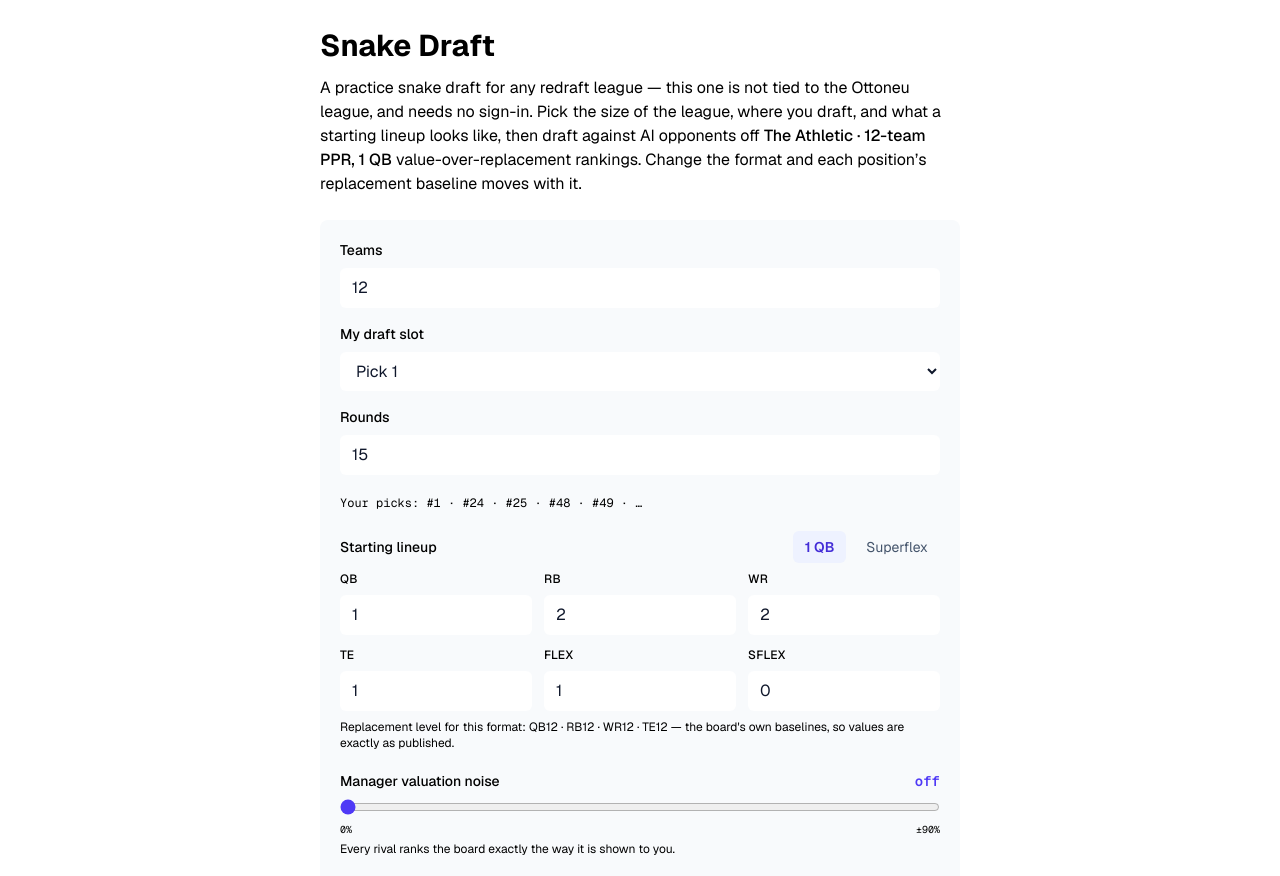
SnakeDraftClient › auto-drafts the remainder and shows the standings
Replace the text in the number field labelled "Rounds" with "3": [640, 455] box [340,435,940,475]
(page scrolled)
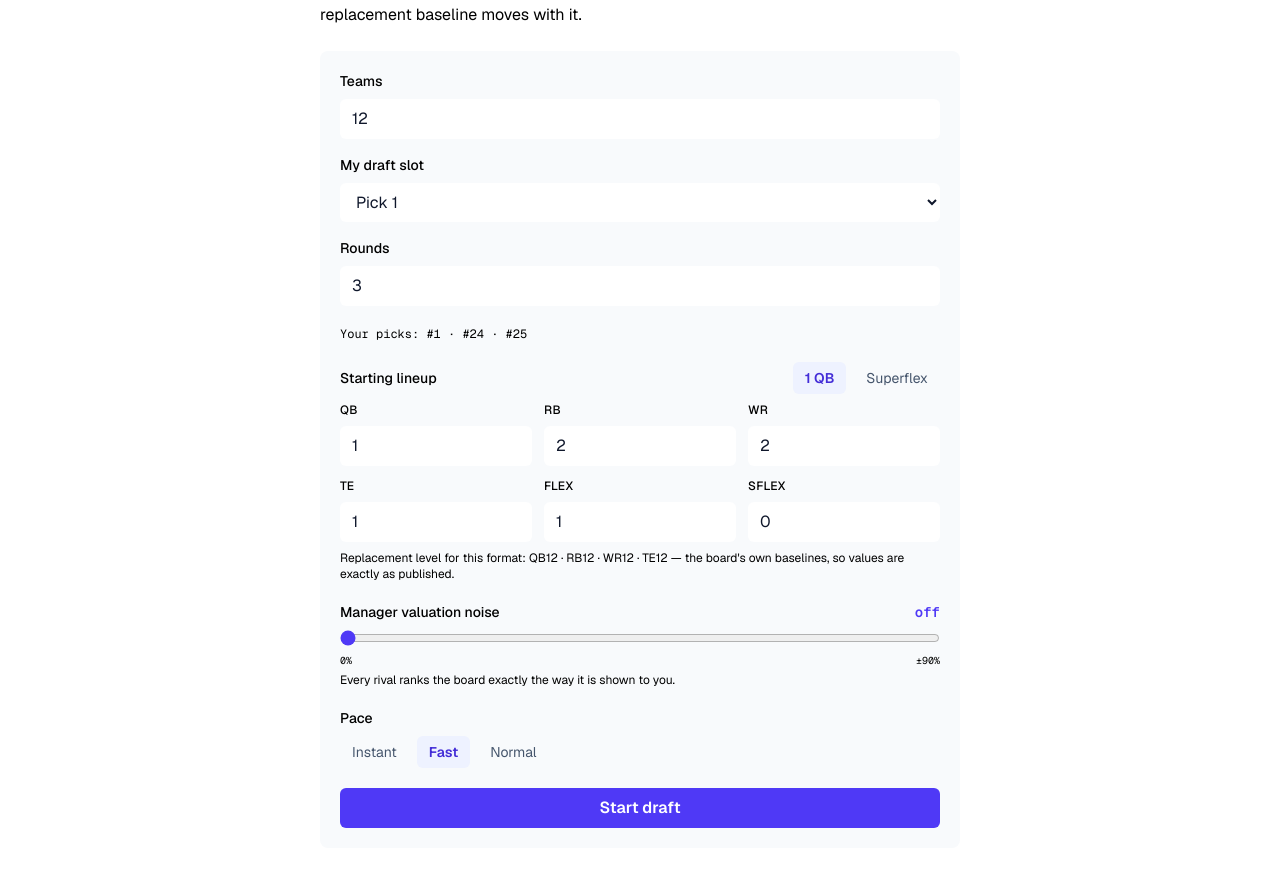
Click the button "Start draft": [640, 808] box [340,788,940,828]
(page scrolled)
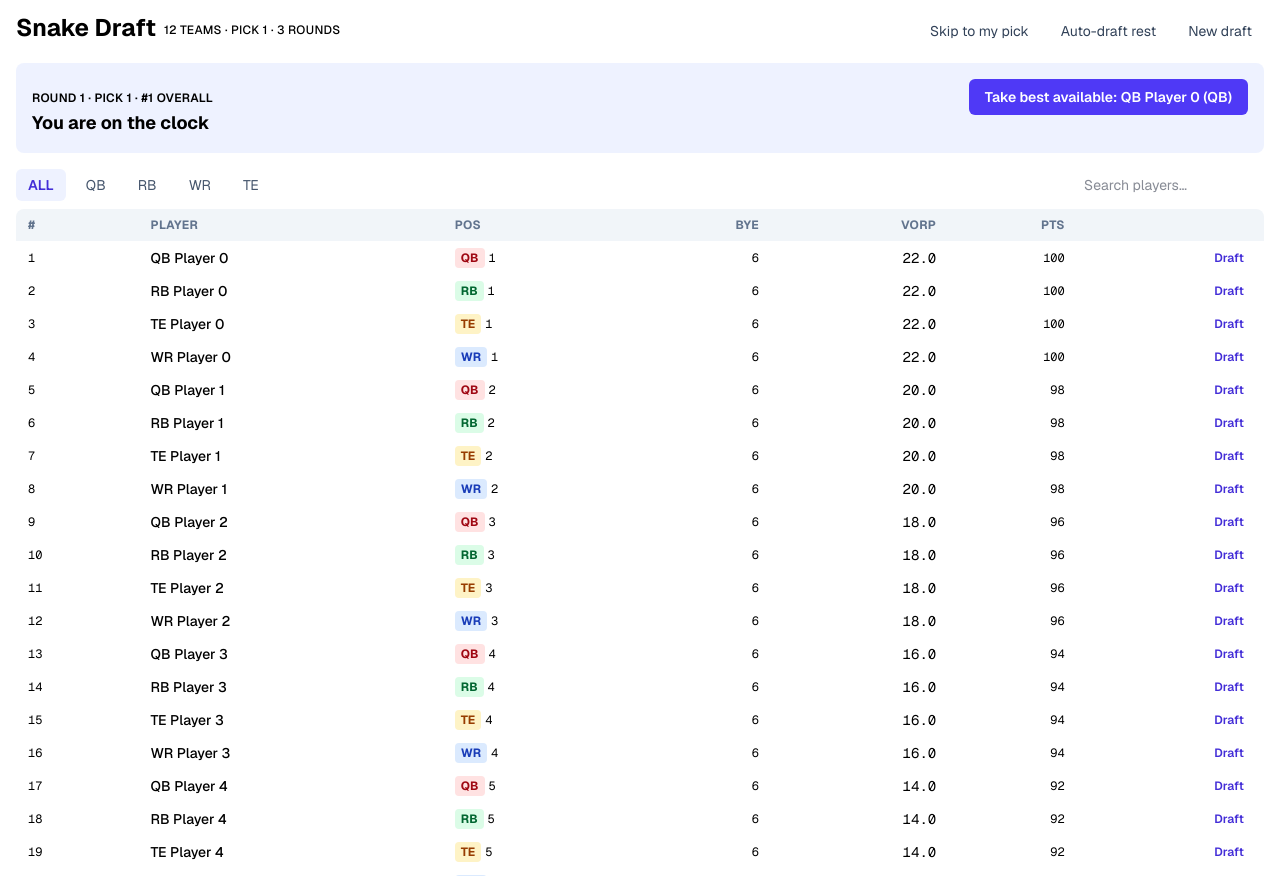
Click the button "Auto-draft rest": [1108, 31] box [1049,15,1168,47]
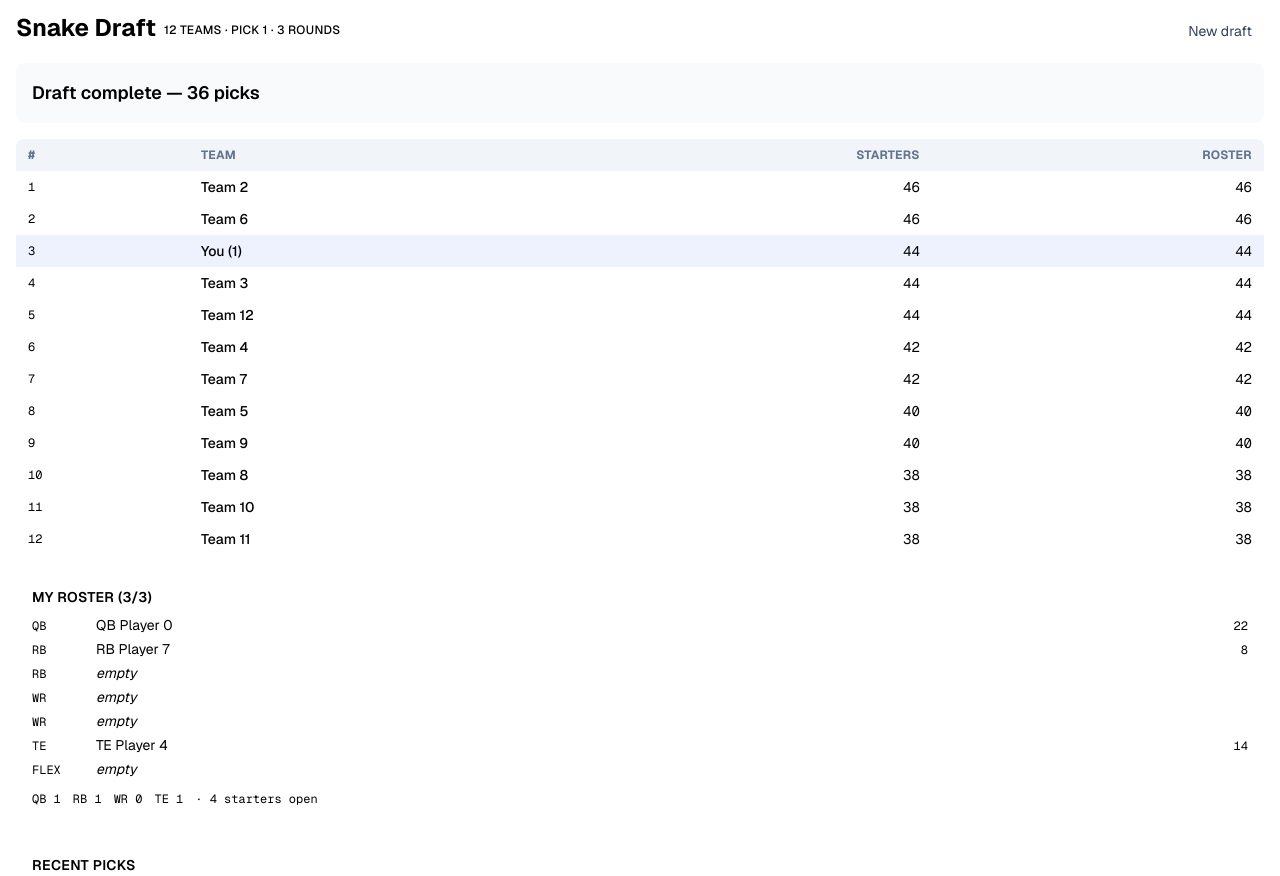
expect the text "Draft complete — 36 picks" is shown: met, box [32,81,260,104]
expect the column heading "Starters" is shown: met, box [538,139,932,171]
